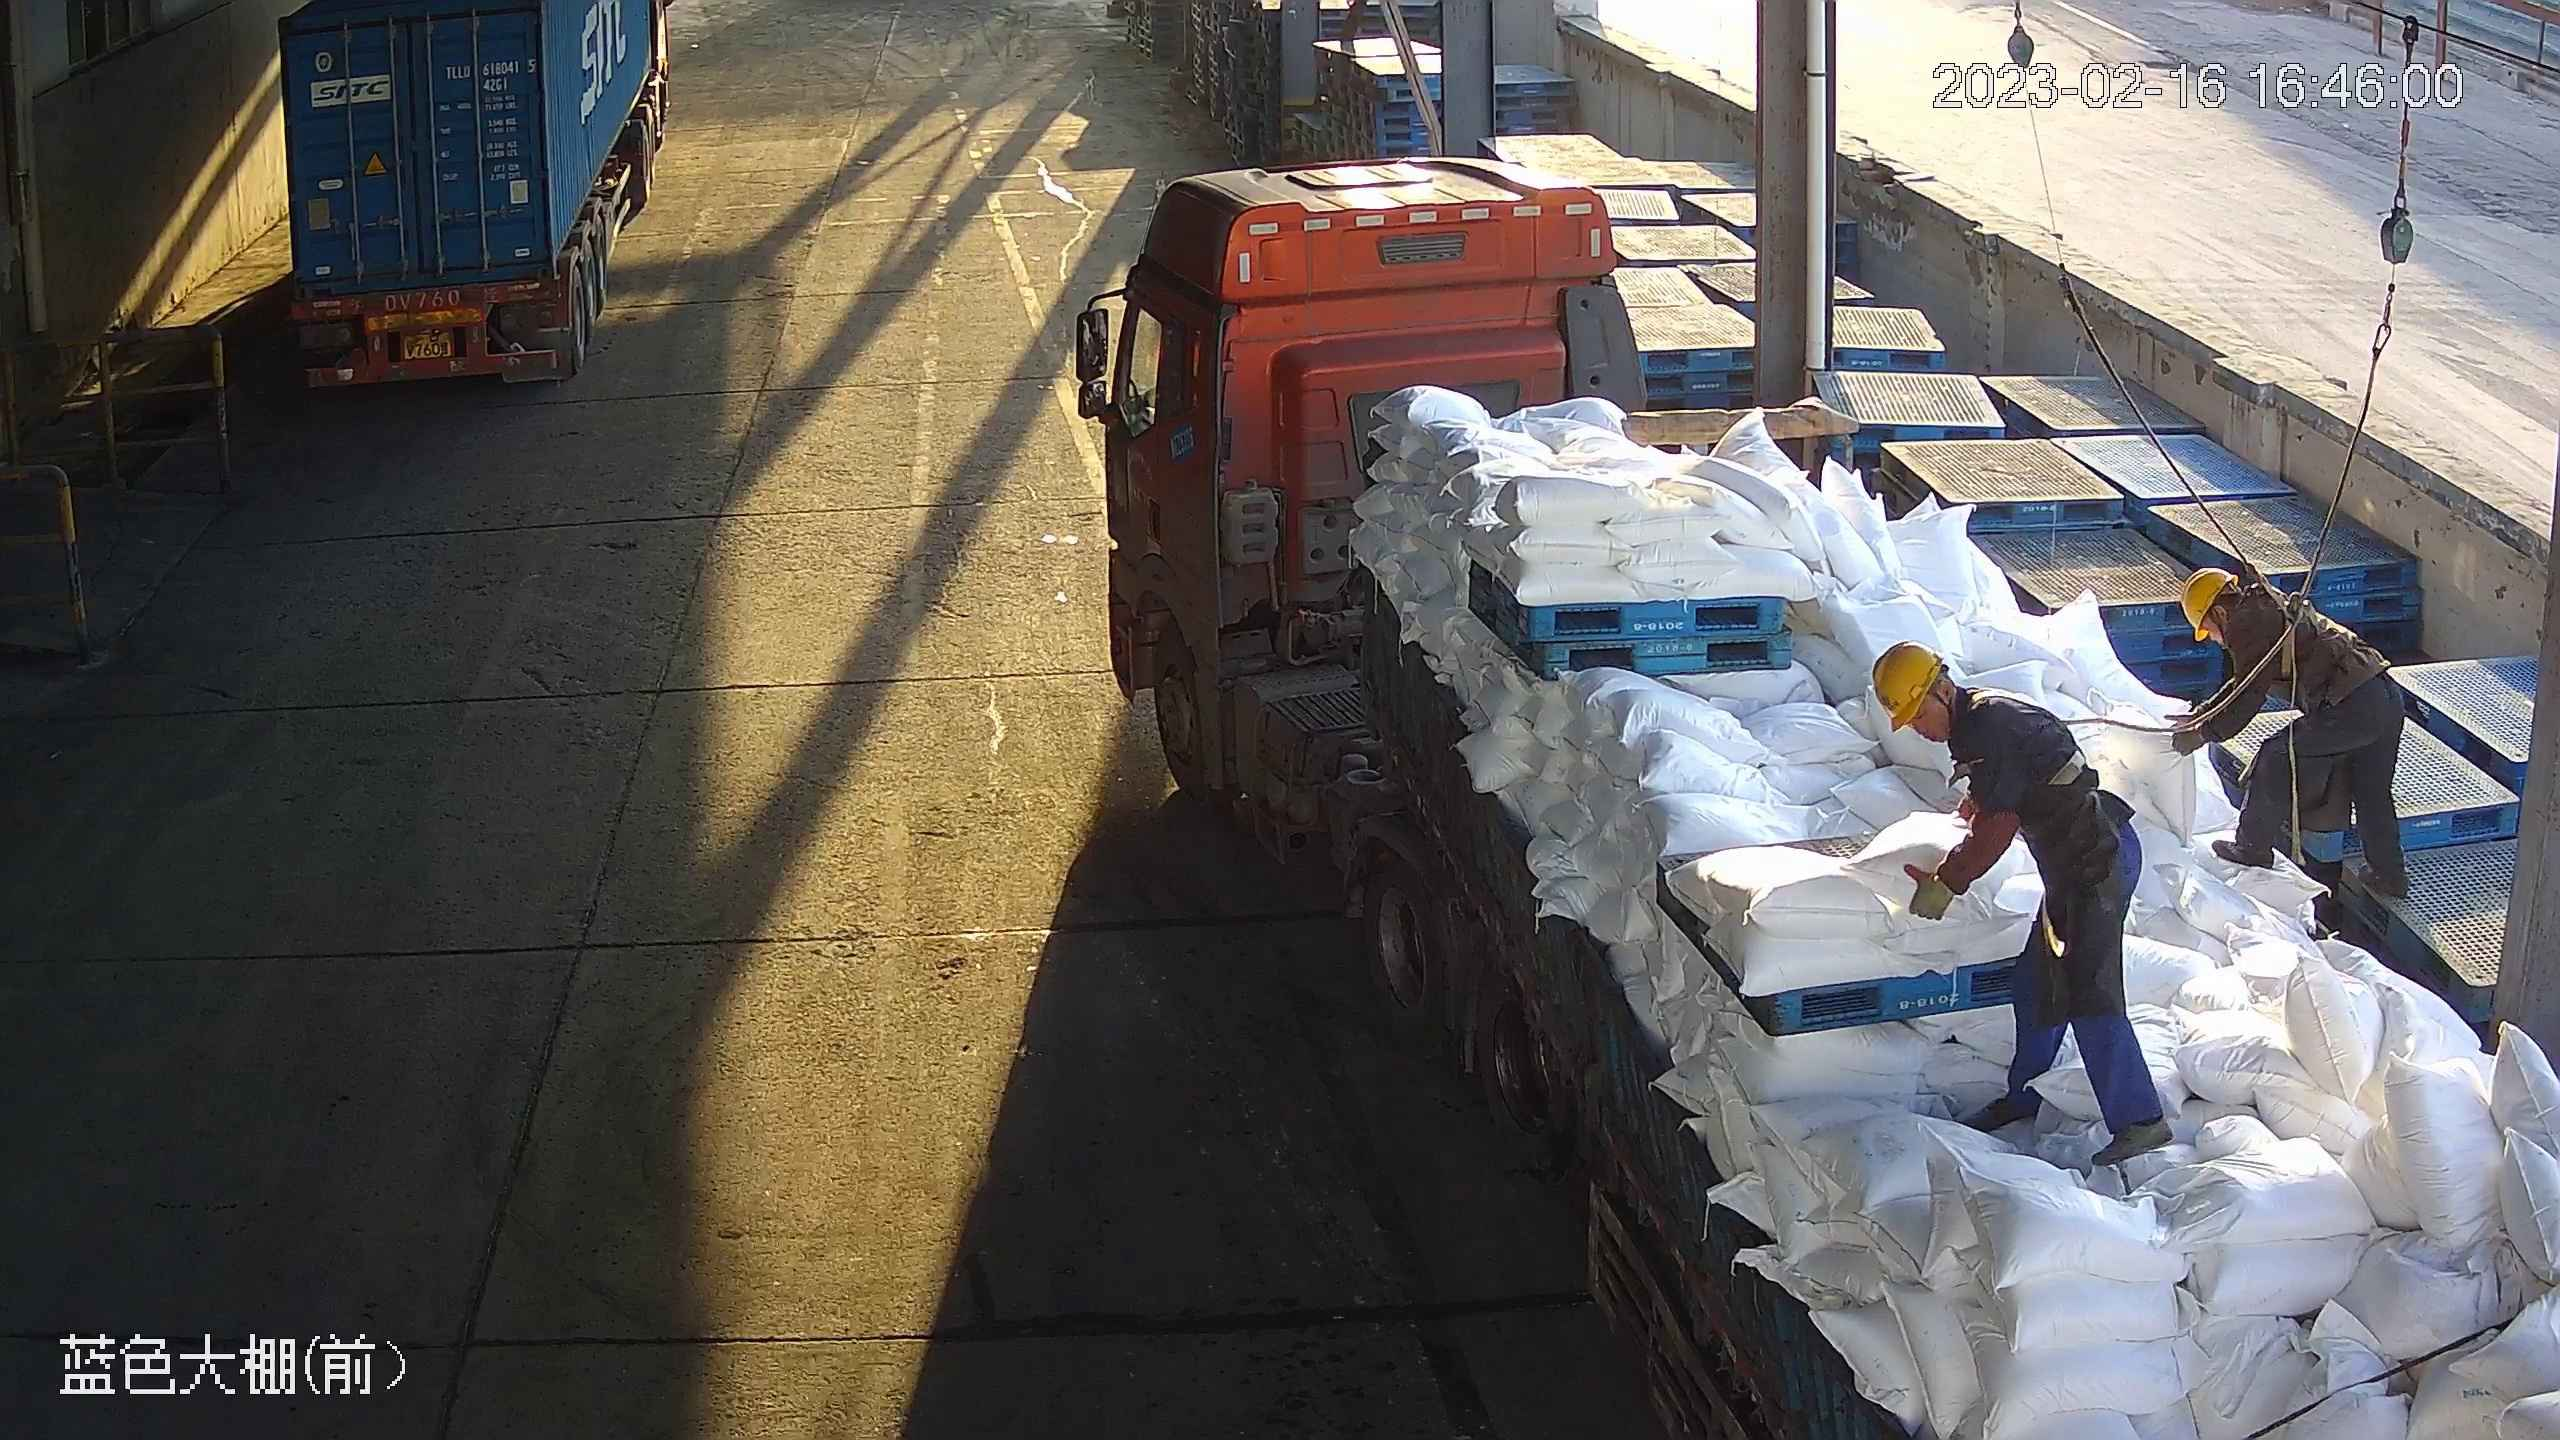belt: (1969, 683, 2112, 799), (2245, 568, 2341, 689)
head: (1871, 640, 2055, 801), (2173, 569, 2306, 700)
helmet: (1871, 647, 1941, 730), (2178, 566, 2243, 642)
people: (1872, 640, 2176, 1163), (2172, 563, 2409, 897)
truck: (1076, 163, 2556, 1440), (274, 1, 679, 404)
